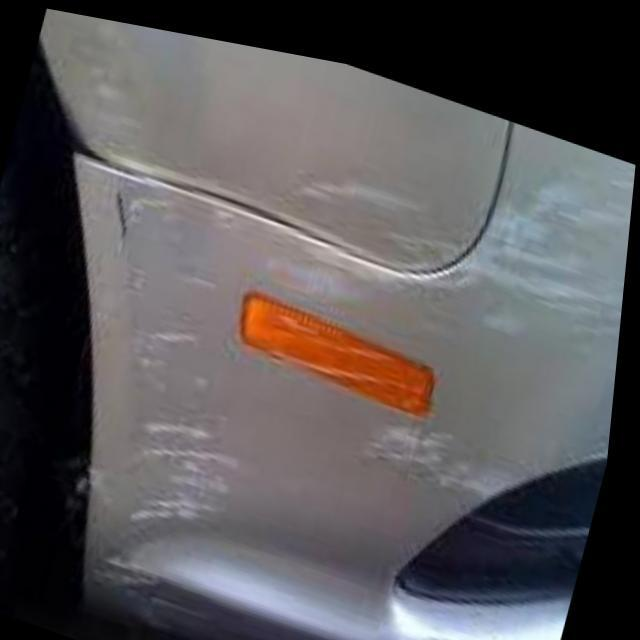rub: (81, 13, 634, 591)
